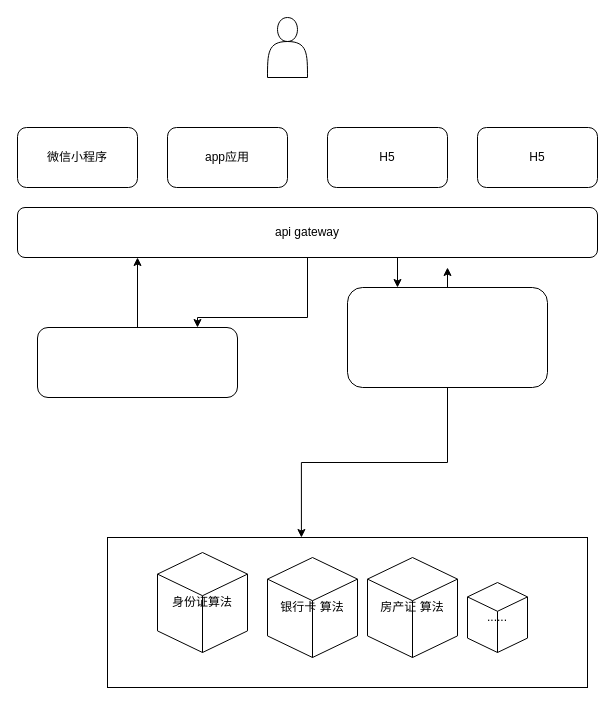
The diagram is 615 pixels wide and 705 high, and some of its shapes have lost their labels. The centre of each missing label's shape, as x and y in pixels:
"OCR识别接口" goes at point 447,337.
"证证授权中心" goes at point 137,362.
